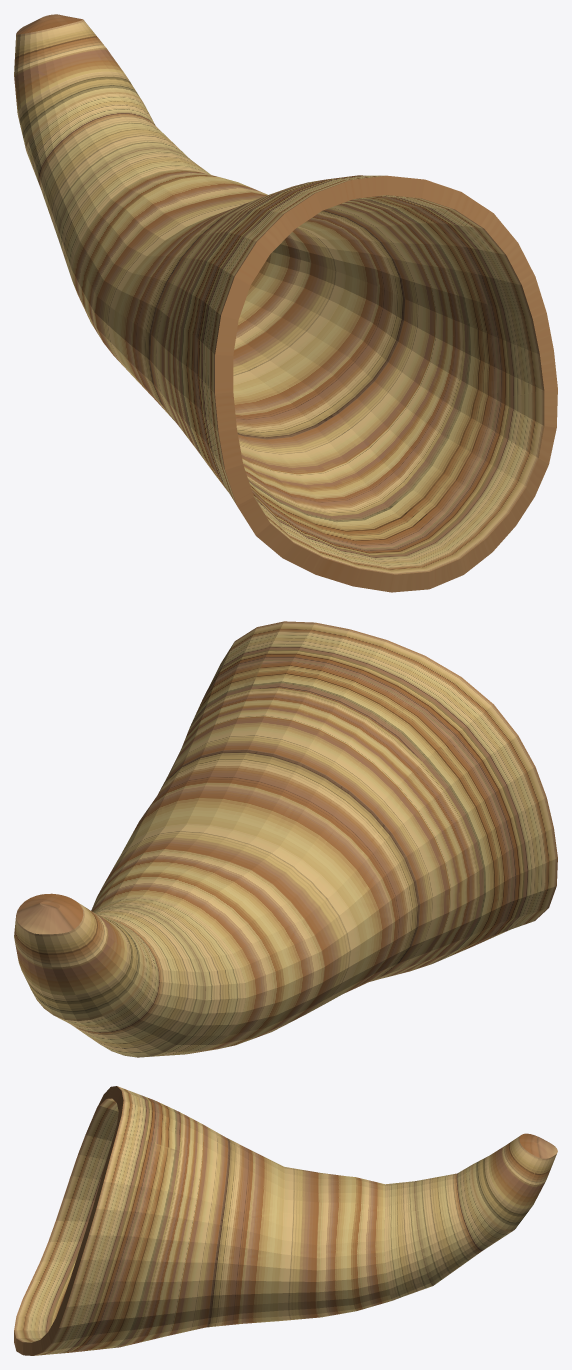
File: cornucopia.fbx
The picture shows the model from 3 angles, top to bottom: view 1: azimuth 30°, elevation 25°; view 2: azimuth 150°, elevation 25°; view 3: azimuth 270°, elevation 25°; orthographic projection. The views are drawn at different scales.
Parts seen in each view (by area): view 1: Cornucopia.001; view 2: Cornucopia.001; view 3: Cornucopia.001.
Part boxes in pixels (<box>): Cornucopia.001: <box>14,14,557,592</box>; Cornucopia.001: <box>14,621,557,1057</box>; Cornucopia.001: <box>14,1086,557,1355</box>.
Bounding box in the file's own units: 20.13 × 20.18 × 41.07.
